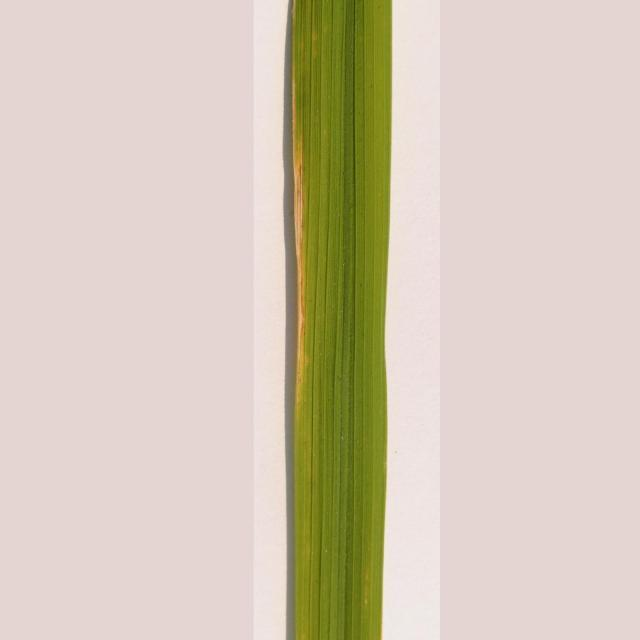leaf blight: (281, 58, 320, 408)
